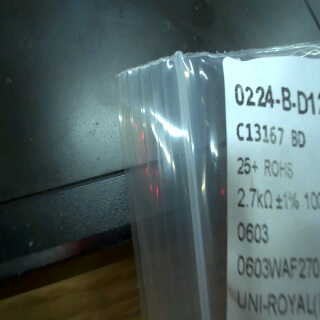2.7kR: (237, 185, 273, 213)
